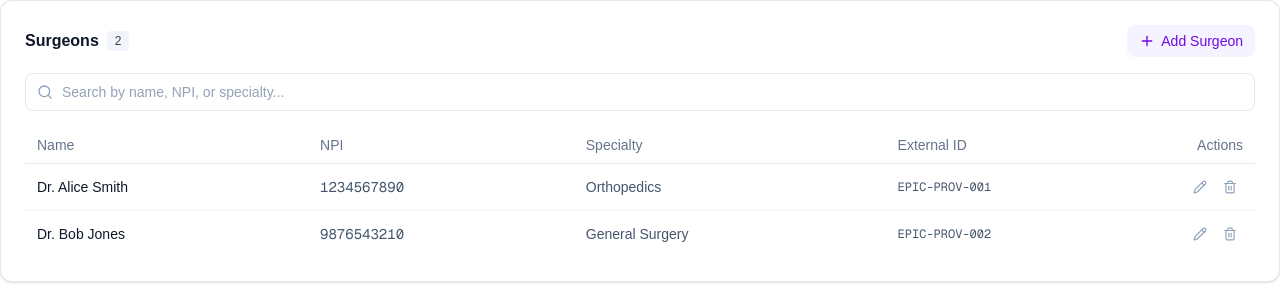
SurgeonPool - Unit Tests › shows empty search results message
Expected: the text "Dr. Alice Smith" is shown, [25, 164, 308, 210]
Type "NonexistentSurgeon" into the field with placeholder "Search by name, NPI, or specialty..." at (640, 92), box [25, 73, 1255, 111]
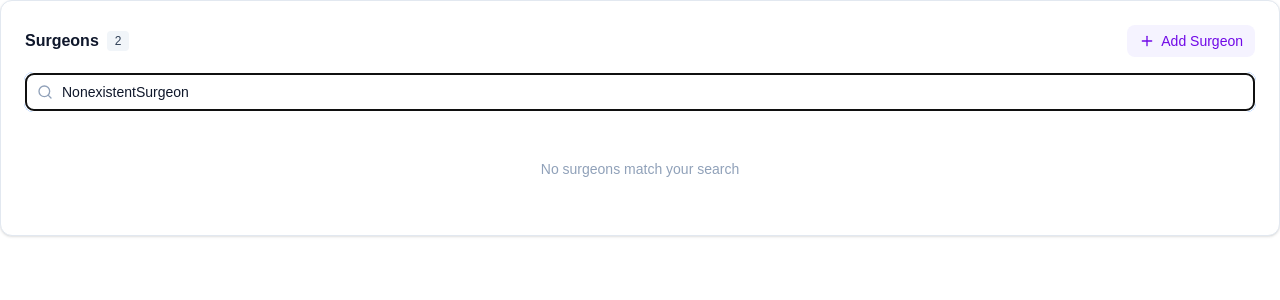
Now the text "No surgeons match your search" is shown, box [541, 161, 739, 177]
